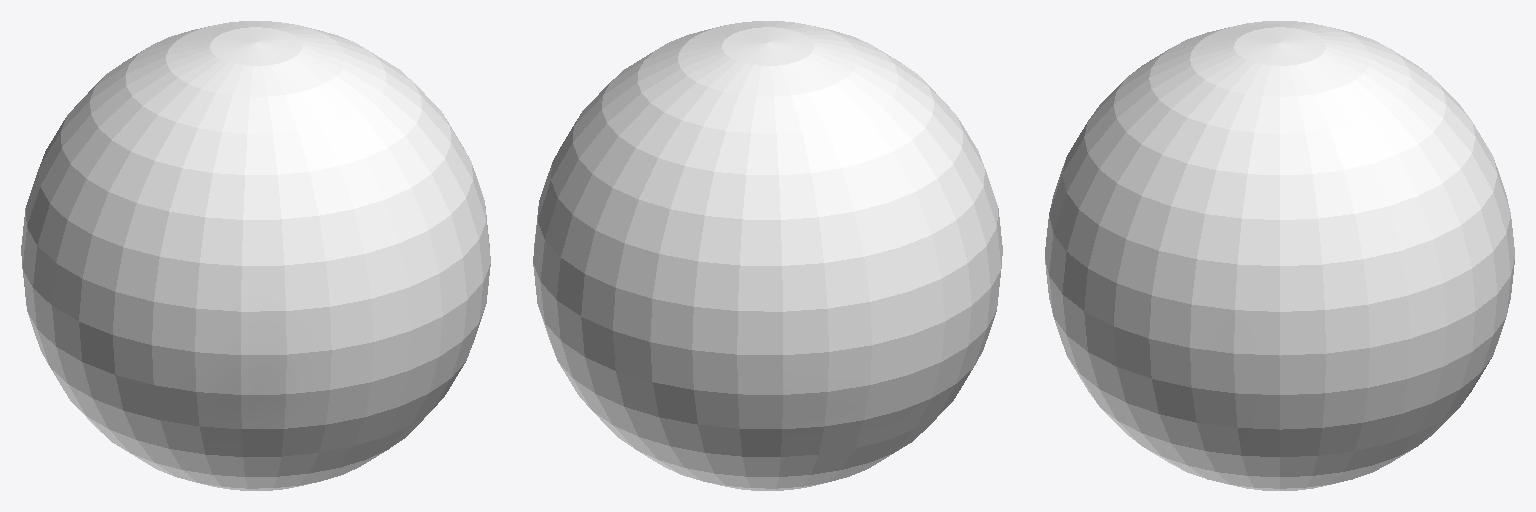
The picture shows the model from 3 angles: view 1: azimuth 30°, elevation 25°; view 2: azimuth 150°, elevation 25°; view 3: azimuth 270°, elevation 25°; orthographic projection.
Visible parts, largest first — view 1: Bullet_球.001; view 2: Bullet_球.001; view 3: Bullet_球.001.
Part boxes in pixels (x1,y1,x2,y2): Bullet_球.001: (21,21,490,490); Bullet_球.001: (533,21,1002,490); Bullet_球.001: (1045,21,1514,490).
Size of the model in its own units: 2 by 2 by 2.
1 materials, 1 textured.